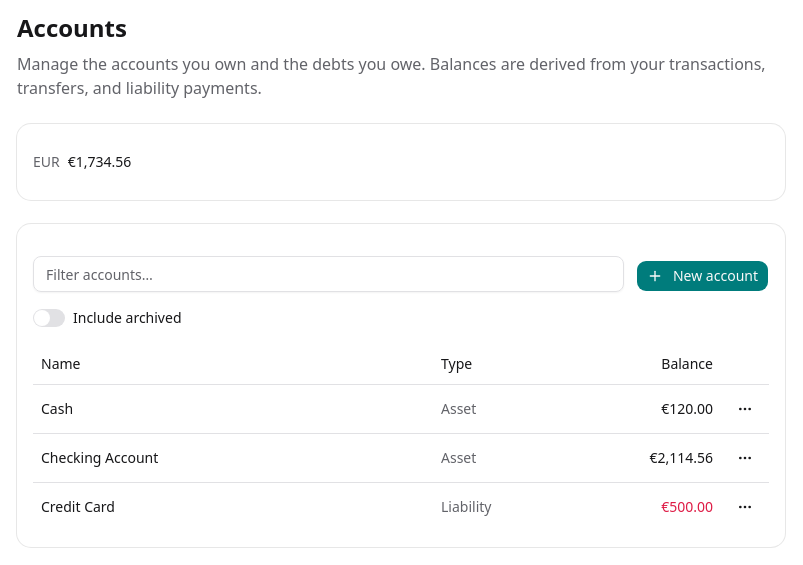
AccountsLayout › search filters rows
Expected: the text "Cash" is shown, 41,398 -> 73,418
Type "che" into the field with placeholder "Filter accounts…" at (328, 274), box 33,256 -> 624,292
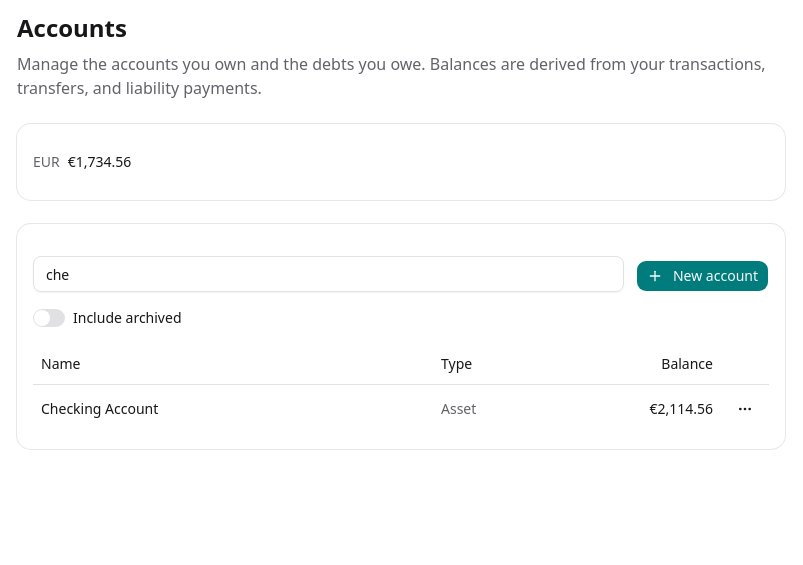
Expected: the text "Checking Account" is shown, 41,398 -> 158,418
Expected: the text "Cash" is gone
